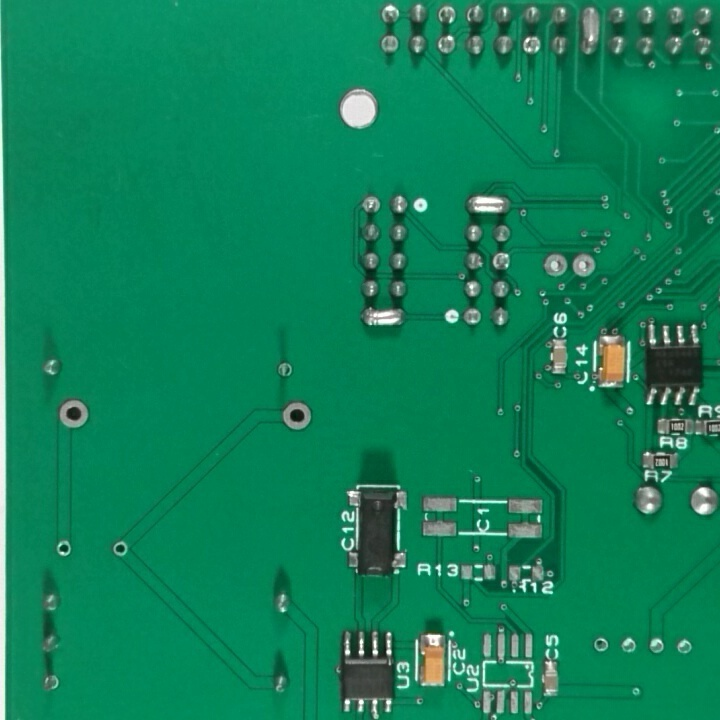F: (279, 400, 316, 436), (56, 396, 91, 430), (570, 253, 600, 281), (541, 252, 570, 280), (520, 33, 544, 58), (433, 4, 459, 27), (673, 635, 696, 660), (490, 252, 512, 275), (379, 3, 400, 26), (462, 305, 482, 329), (646, 635, 666, 659), (50, 540, 76, 558), (273, 360, 294, 382), (41, 672, 61, 695), (361, 193, 381, 216), (110, 539, 130, 561), (619, 635, 638, 658), (590, 635, 610, 655)
P: (359, 300, 408, 335), (579, 6, 602, 59), (464, 192, 512, 217)
